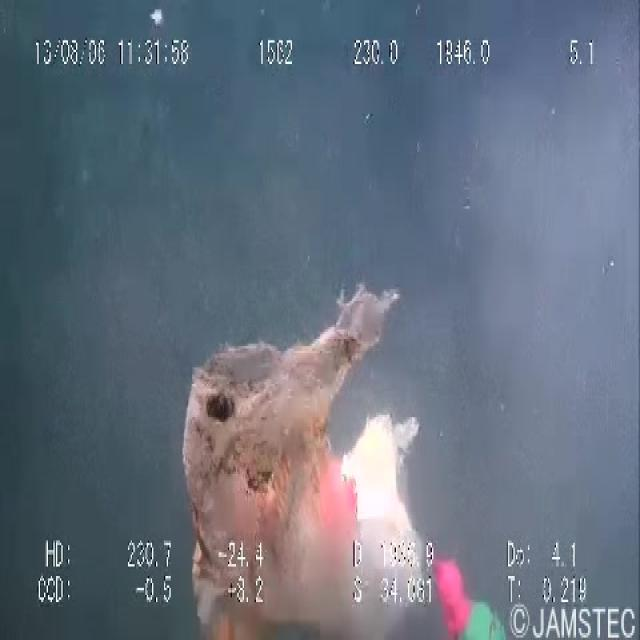plastic: (160, 263, 444, 638)
